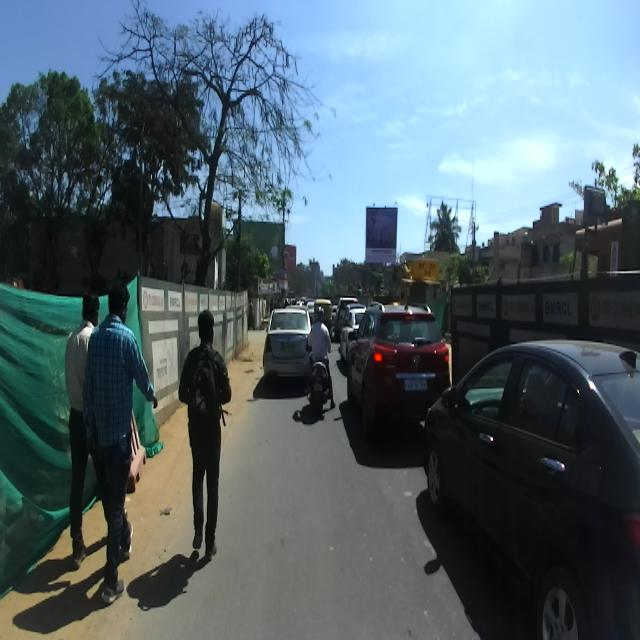car ahead at: (423, 329, 640, 640), (262, 303, 312, 381)
person ahead at: (177, 301, 233, 576), (90, 282, 138, 590)
